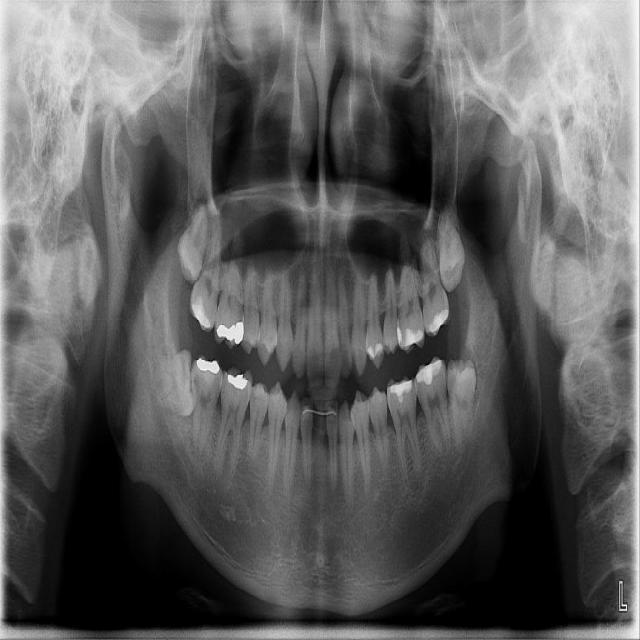Filling: (416, 359, 442, 385), (425, 309, 449, 335), (217, 322, 244, 344), (192, 296, 211, 327), (390, 380, 412, 402), (404, 327, 424, 347), (197, 358, 220, 374), (228, 375, 248, 390), (367, 343, 383, 360), (396, 327, 402, 346)
impacted tooth: (142, 351, 193, 417), (447, 362, 478, 453), (177, 203, 209, 279), (438, 209, 467, 290)
